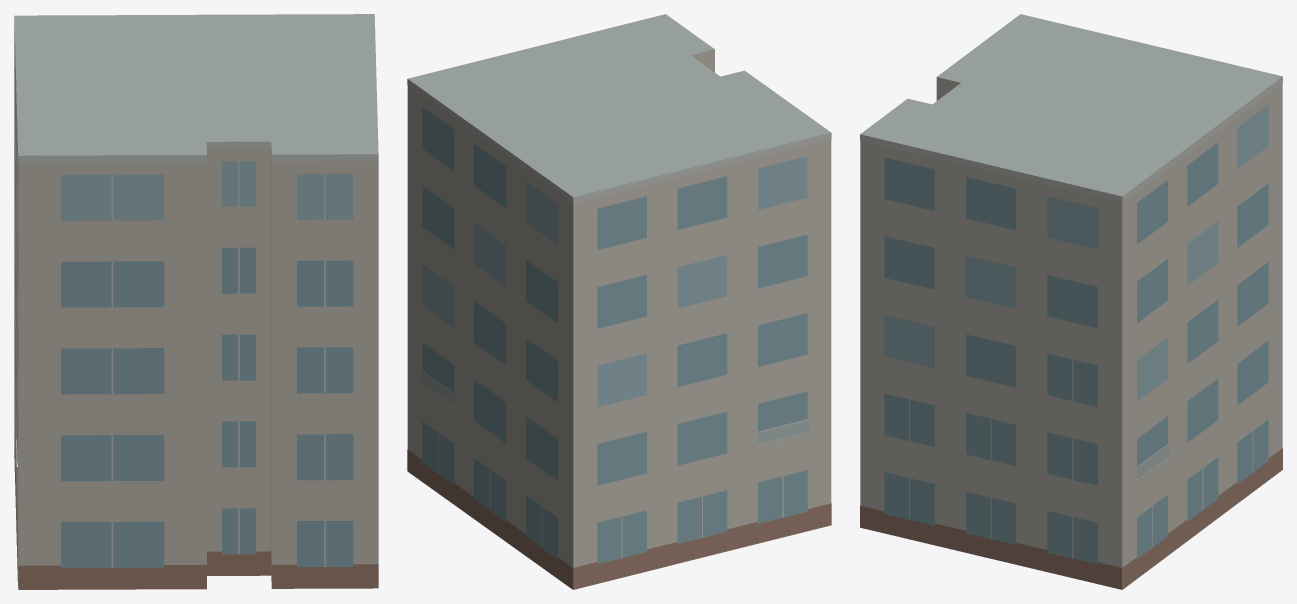
File: survey-upis-32980418.glb
3 views of the same model, side by side, from view 1: azimuth 30°, elevation 25°; view 2: azimuth 150°, elevation 25°; view 3: azimuth 270°, elevation 25° (orthographic). The views are drawn at different scales.
Visible parts, largest first — view 1: survey-upis-32980418.tmp; view 2: survey-upis-32980418.tmp; view 3: survey-upis-32980418.tmp.
Part boxes in pixels (<box>): survey-upis-32980418.tmp: <box>14,14,378,589</box>; survey-upis-32980418.tmp: <box>407,14,831,589</box>; survey-upis-32980418.tmp: <box>860,14,1282,589</box>.
Size of the model in its own units: 15.18 by 15.25 by 14.86.
